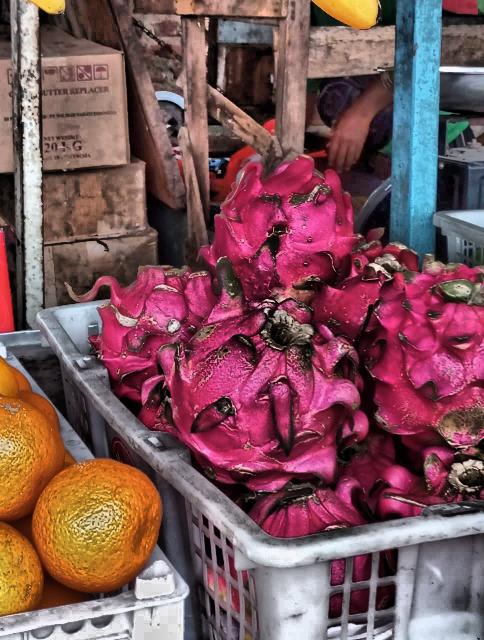buah-naga-matang: (165, 288, 377, 496), (362, 270, 484, 446), (199, 153, 342, 283), (68, 262, 198, 394), (366, 436, 484, 512), (248, 479, 352, 541)
